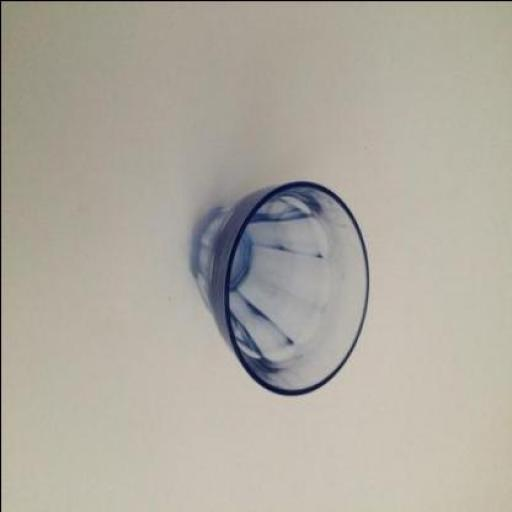glass: (190, 182, 369, 396)
